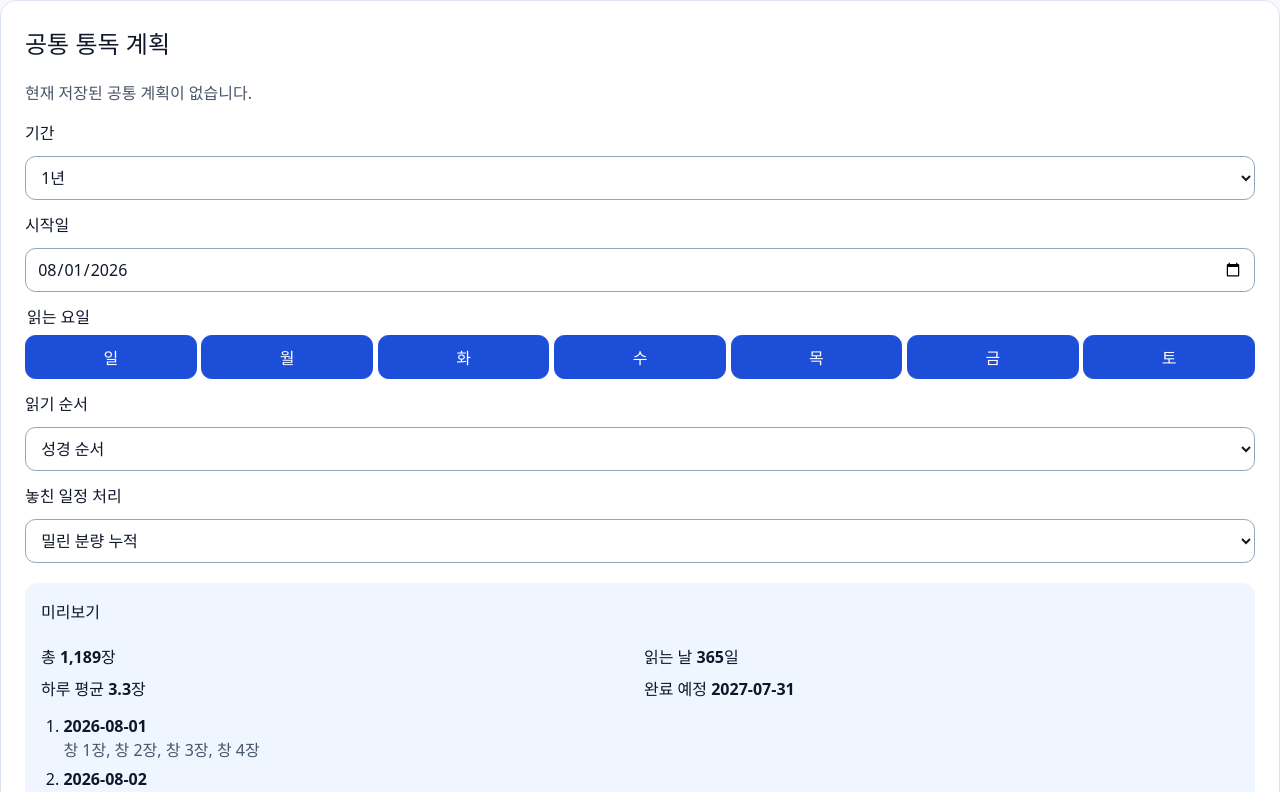
it: PlanSettingsPage › 잘못된 공통 시작일 오류를 해당 입력에 연결한다
The image size is (1280, 792).
Clear the date field labelled "시작일". click: (640, 270)
box: left=25, top=248, right=1255, bottom=292
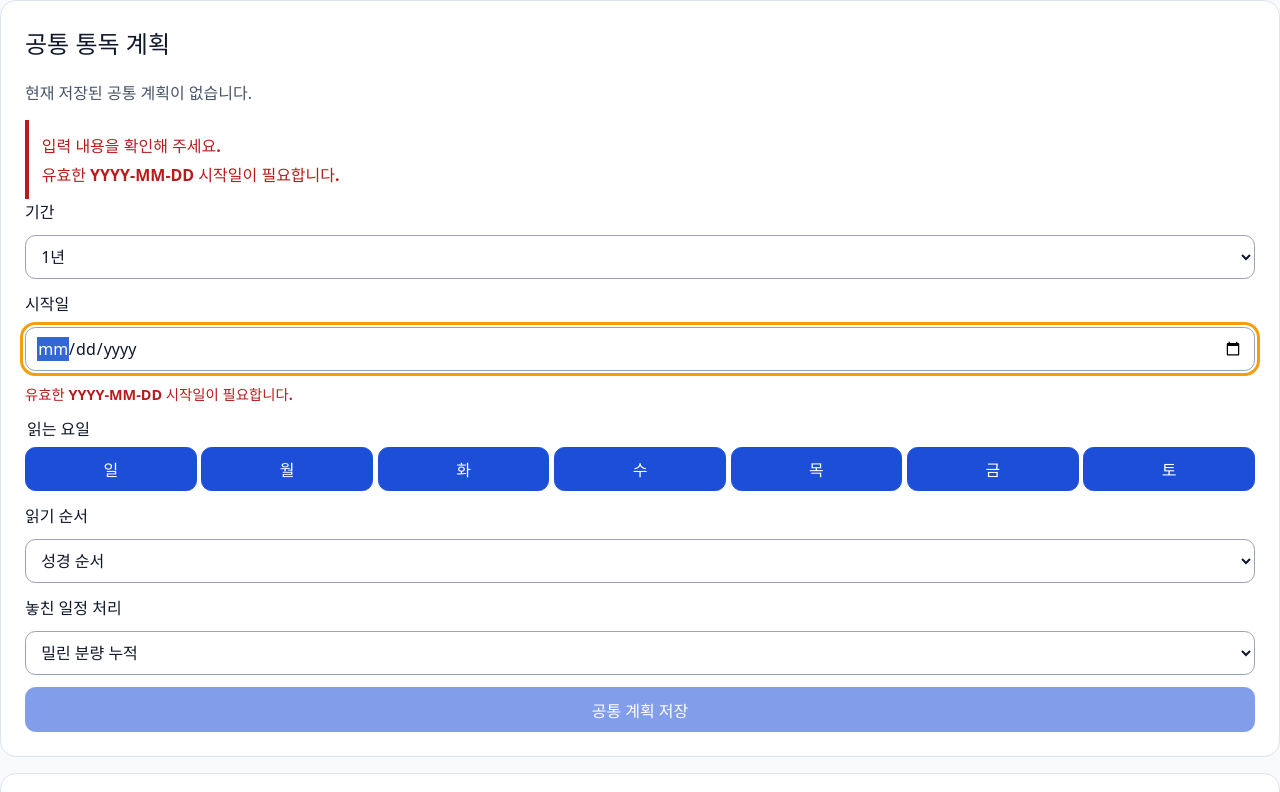
Now the message shows "입력 내용을 확인해 주세요.", box left=42, top=135, right=221, bottom=157
Now the text "유효한 YYYY-MM-DD 시작일이 필요합니다." below "기간" is shown, box left=25, top=385, right=293, bottom=404
